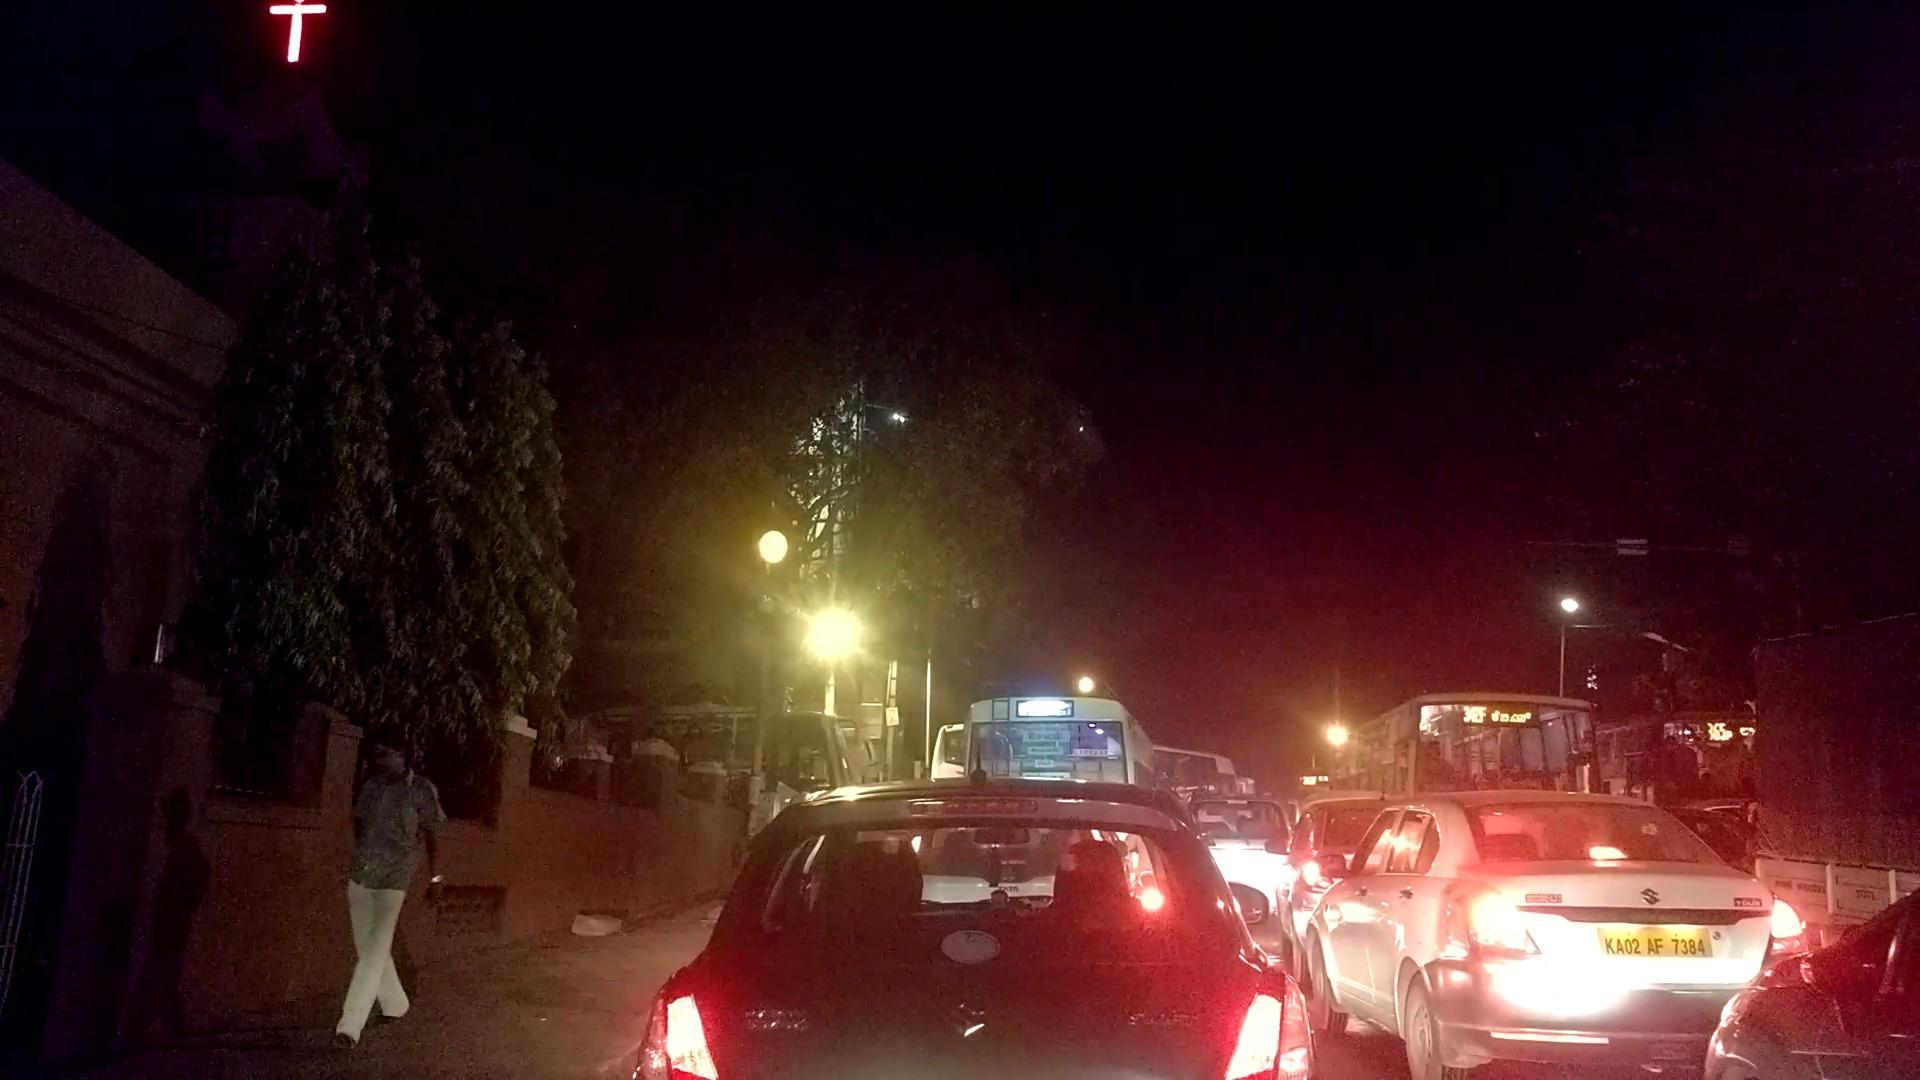on: (640, 433, 967, 811)
